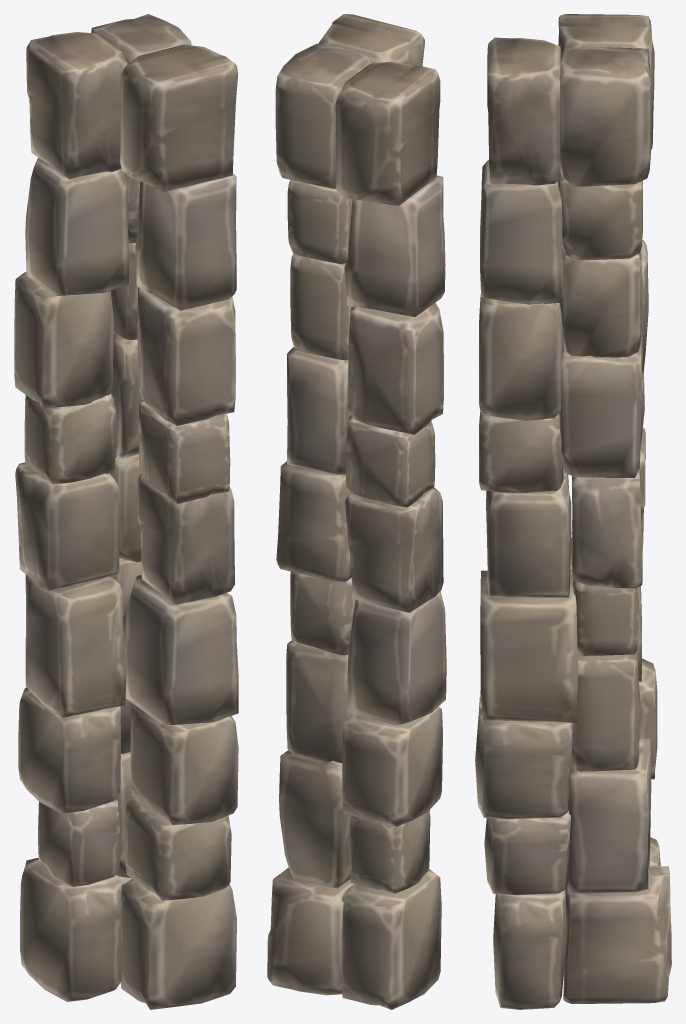
Rendered from Corner_Exterior_Brick.glb.
3 views of the same model, side by side, from view 1: azimuth 30°, elevation 25°; view 2: azimuth 150°, elevation 25°; view 3: azimuth 270°, elevation 25° (orthographic). The views are drawn at different scales.
Parts seen in each view (by area): view 1: Corner_Exterior_Brick; view 2: Corner_Exterior_Brick; view 3: Corner_Exterior_Brick.
Part boxes in pixels (left/top/right/bottom): Corner_Exterior_Brick: left=14, top=14, right=238, bottom=1009; Corner_Exterior_Brick: left=267, top=14, right=446, bottom=1009; Corner_Exterior_Brick: left=475, top=14, right=671, bottom=1009.
Bounding box in the file's own units: 0.5307 × 3.02 × 0.5758.
1 material, 1 textured.
